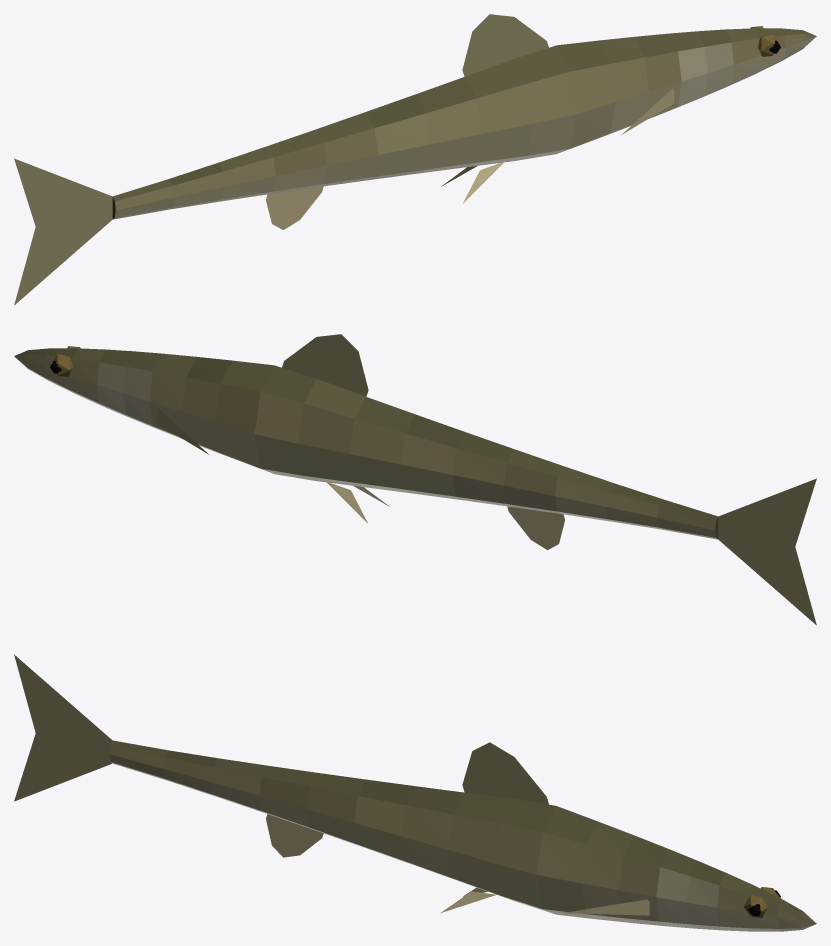
The model's file is white-sucker.glb.
3 renders of one model, top to bottom at view 1: azimuth 30°, elevation 25°; view 2: azimuth 150°, elevation 25°; view 3: azimuth 330°, elevation 25°, orthographic.
Visible parts, largest first — view 1: white-sucker; view 2: white-sucker; view 3: white-sucker.
Boxes of the visible parts, x1=… form: white-sucker: x1=14, y1=14, x2=816, y2=305; white-sucker: x1=14, y1=334, x2=816, y2=625; white-sucker: x1=14, y1=654, x2=816, y2=931.
Size of the model in its own units: 1.14 by 0.2382 by 0.144.
